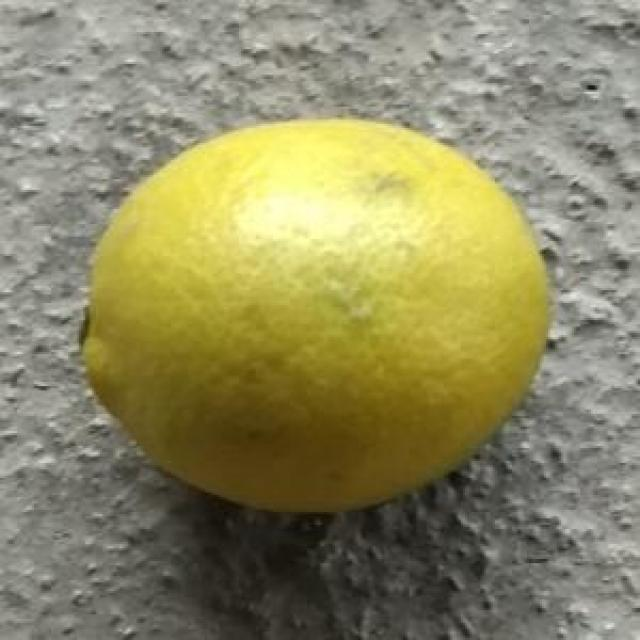lemon: (79, 114, 552, 514)
